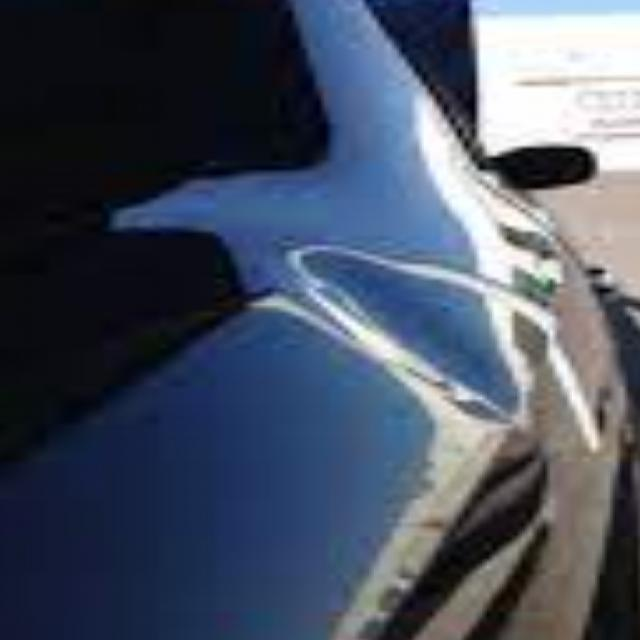dents: (204, 217, 632, 413)
